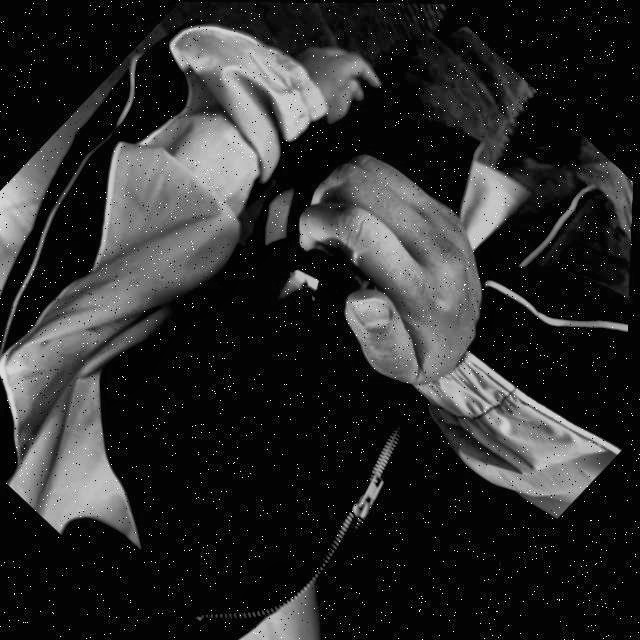Fire: (264, 274, 305, 314)
